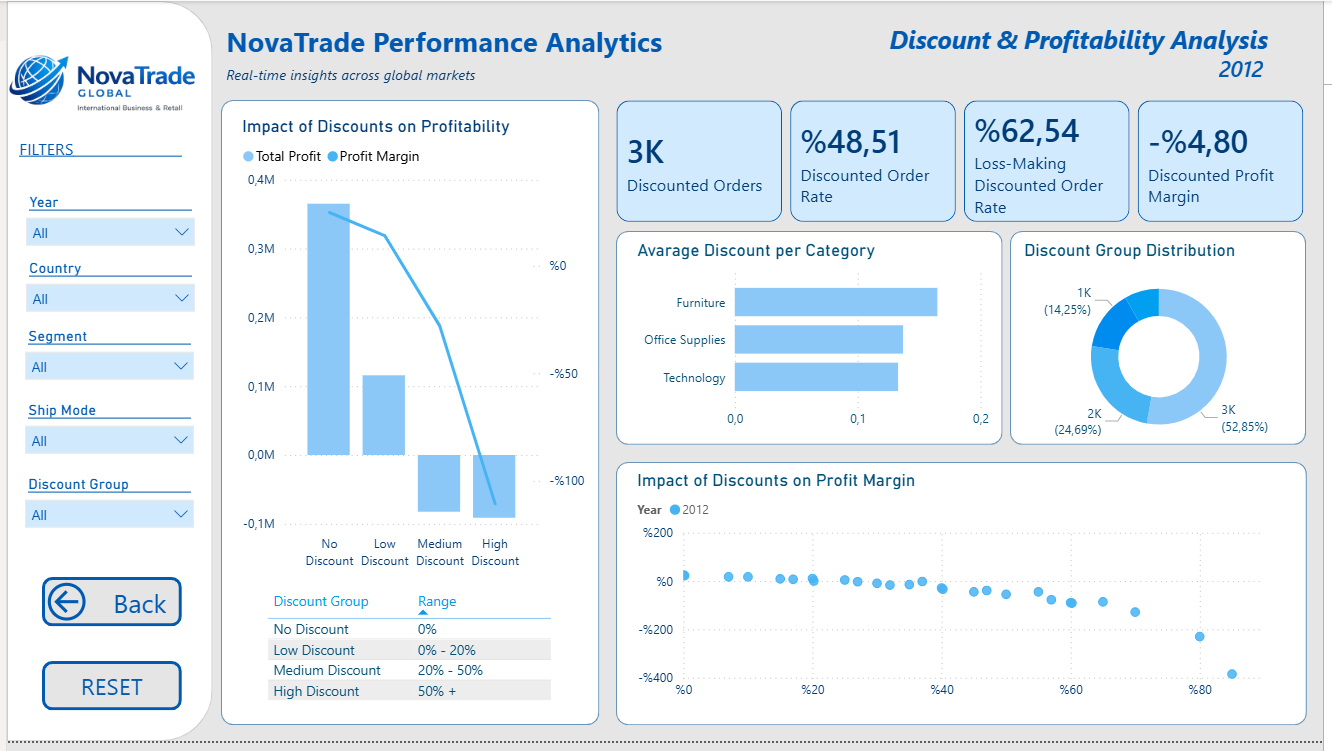

The dashboard page shown, as its layout file describes it:
{"tool":"powerbi","page":{"name":"Discount Analysis Overview-Global","canvas":[1280,720],"ordinal":4},"visuals":[{"type":"shape","box":[0,0,200,720],"z":0},{"type":"image","box":[0,0,192,160],"z":1000},{"type":"textbox","box":[6.9,127.7,168,56],"z":2000},{"type":"actionButton","box":[34,642,136,48],"z":3000},{"type":"textbox","box":[208,16,456,72],"z":4000},{"type":"textbox","box":[208,56,504,40],"z":5000},{"type":"shape","box":[208,96,368,608],"z":6000},{"type":"shape","box":[592,224,376,208],"z":7000},{"type":"cardVisual","fields":{"Data":["Sheet1.Discounted Orders","Sheet1.Discounted Order Rate","Sheet1.Loss Orders With Discount","Sheet1.Discounted Profit Margin"]},"box":[576,80,704,152],"z":8000},{"type":"shape","box":[592,448,672,256],"z":9000},{"type":"textbox","box":[832,16,400,48],"z":10000},{"type":"actionButton","box":[34,560,136,48],"z":11000},{"type":"lineClusteredColumnComboChart","title":"Impact of Discounts on Profitability","fields":{"Category":["Sheet1.Discount Group"],"Y":["Sheet1.Total Profit"],"Y2":["Sheet1.Profit Margin"]},"box":[224,112,344,448],"z":12000},{"type":"tableEx","fields":{"Values":["Discount Groups Ranges.Discount Group","Discount Groups Ranges.Range"]},"box":[248,568,288,120],"z":13000},{"type":"clusteredBarChart","title":"Avarage Discount per Category","fields":{"Y":["Sheet1.Avg Discount %"],"Category":["Sheet1.Category"]},"box":[608,232,352,192],"z":14000},{"type":"shape","box":[976,224,288,208],"z":15000},{"type":"scatterChart","title":"Impact of Discounts on Profit Margin","fields":{"X":["Sheet1.Discount"],"Y":["Sheet1.Profit Margin"],"Series":["Dates.Date.Variation.Date Hierarchy.Year"]},"box":[608,456,632,232],"z":16000},{"type":"slicer","fields":{"Values":["Dates.Date.Variation.Date Hierarchy.Year"]},"box":[8.8,182,184,64],"z":17000},{"type":"slicer","fields":{"Values":["Sheet1.Segment"]},"box":[8,312,184,64],"z":18000},{"type":"slicer","fields":{"Values":["Sheet1.Ship Mode"]},"box":[8,384,184,64],"z":19000},{"type":"slicer","fields":{"Values":["Sheet1.Country"]},"box":[8.8,246,184,64],"z":20000},{"type":"slicer","fields":{"Values":["Sheet1.Discount Group"]},"box":[8,456,184,64],"z":21000},{"type":"donutChart","title":"Discount Group Distribution","fields":{"Category":["Sheet1.Discount Group"],"Y":["Sheet1.Total Orders"]},"box":[984,232,272,208],"z":22000},{"type":"cardVisual","fields":{"Data":["Dates.Selected Year"]},"box":[864,32,384,64],"z":23000}]}

Visuals, with their boxes in screenshot pixels (x1, y1, x2, y2), scaled from the page's 1280x720 canvas onto the 1332x751 screenshot:
shape: [x1=0, y1=0, x2=208, y2=750]
image: [x1=0, y1=0, x2=200, y2=167]
textbox: [x1=7, y1=133, x2=182, y2=192]
actionButton: [x1=35, y1=670, x2=177, y2=720]
textbox: [x1=216, y1=17, x2=691, y2=92]
textbox: [x1=216, y1=58, x2=741, y2=100]
shape: [x1=216, y1=100, x2=599, y2=734]
shape: [x1=616, y1=234, x2=1007, y2=451]
cardVisual - Sheet1.Discounted Orders x Sheet1.Discounted Order Rate: [x1=599, y1=83, x2=1331, y2=242]
shape: [x1=616, y1=467, x2=1315, y2=734]
textbox: [x1=866, y1=17, x2=1282, y2=67]
actionButton: [x1=35, y1=584, x2=177, y2=634]
"Impact of Discounts on Profitability" lineClusteredColumnComboChart: [x1=233, y1=117, x2=591, y2=584]
tableEx - Discount Groups Ranges.Discount Group x Discount Groups Ranges.Range: [x1=258, y1=592, x2=558, y2=718]
"Avarage Discount per Category" clusteredBarChart: [x1=633, y1=242, x2=999, y2=442]
shape: [x1=1016, y1=234, x2=1315, y2=451]
"Impact of Discounts on Profit Margin" scatterChart: [x1=633, y1=476, x2=1290, y2=718]
slicer - Dates.Date.Variation.Date Hierarchy.Year: [x1=9, y1=190, x2=201, y2=257]
slicer - Sheet1.Segment: [x1=8, y1=325, x2=200, y2=392]
slicer - Sheet1.Ship Mode: [x1=8, y1=401, x2=200, y2=467]
slicer - Sheet1.Country: [x1=9, y1=257, x2=201, y2=323]
slicer - Sheet1.Discount Group: [x1=8, y1=476, x2=200, y2=542]
"Discount Group Distribution" donutChart: [x1=1024, y1=242, x2=1307, y2=459]
cardVisual - Dates.Selected Year: [x1=899, y1=33, x2=1299, y2=100]
